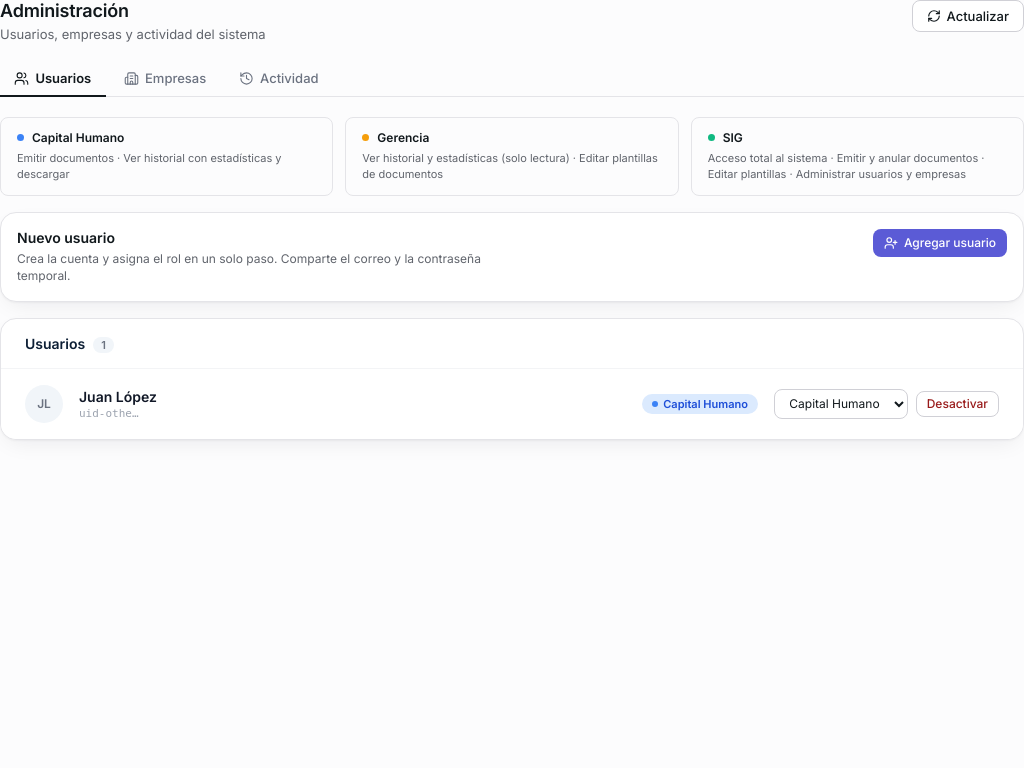
it: cambiarActivo › cancelling the modal leaves the user active
The width and height of the screenshot is (1024, 768).
Expected: the text "Juan López" is shown, [79, 388, 157, 405]
Step 1. Click the button "Desactivar" → (957, 404), box [916, 391, 999, 417]
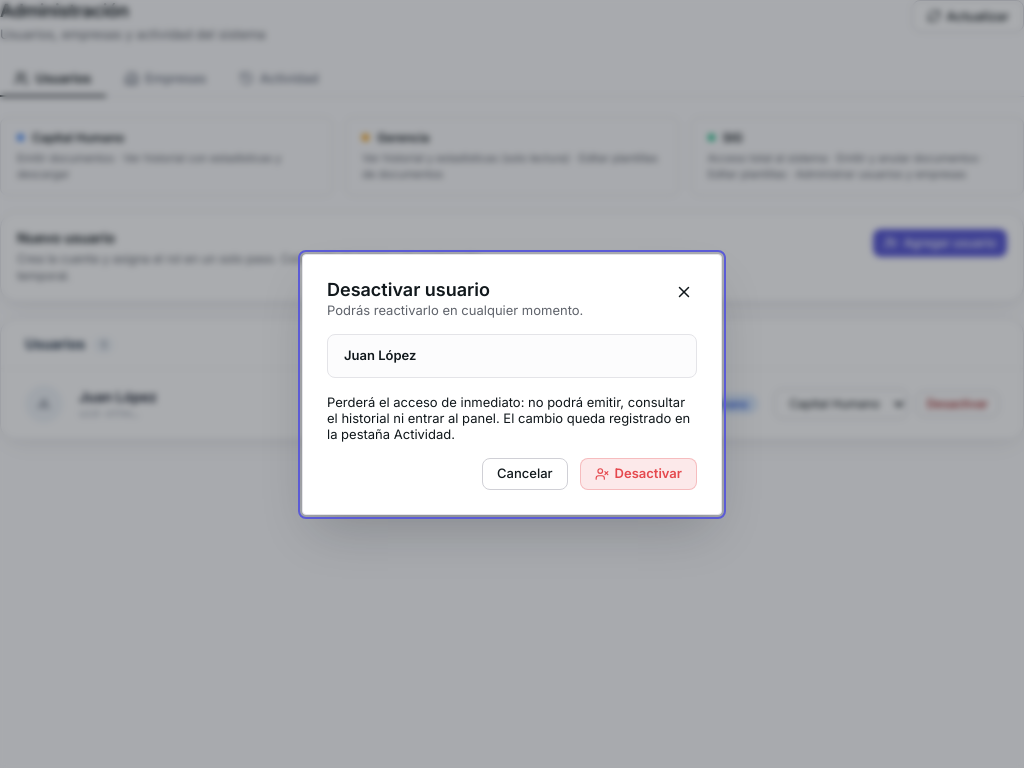
Result: the text "Desactivar usuario" is shown at [327, 278, 490, 300]
Step 2. Click the button "Cancelar" → (525, 474), box [482, 458, 568, 490]
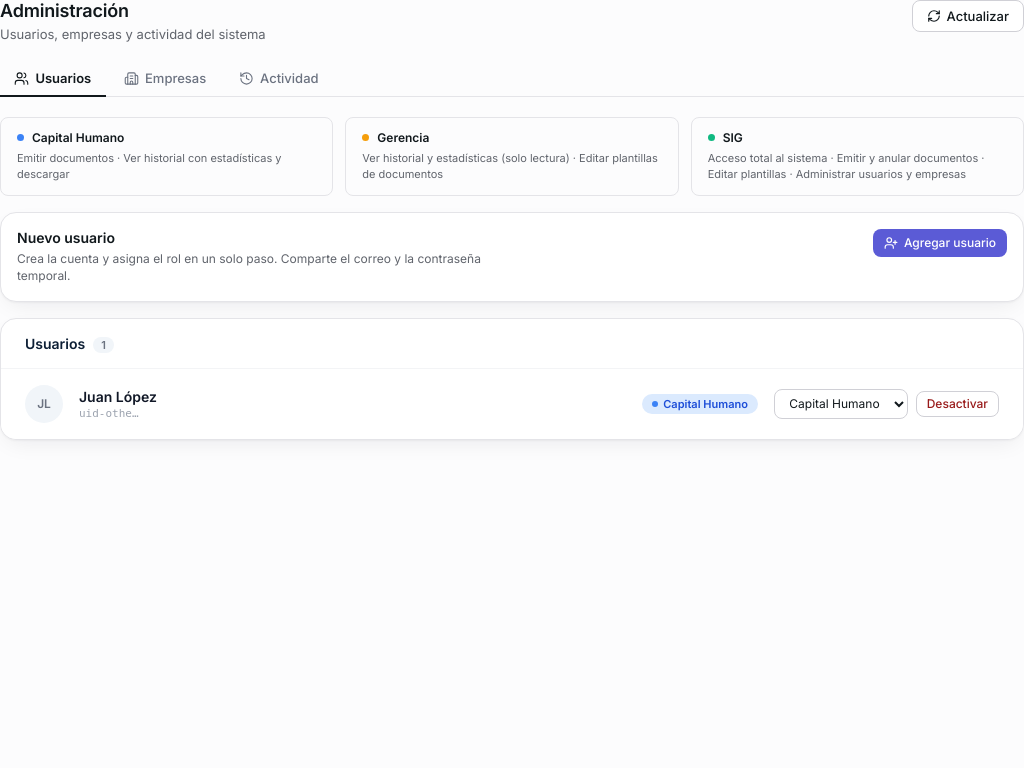
Result: the text "Desactivar usuario" is gone
